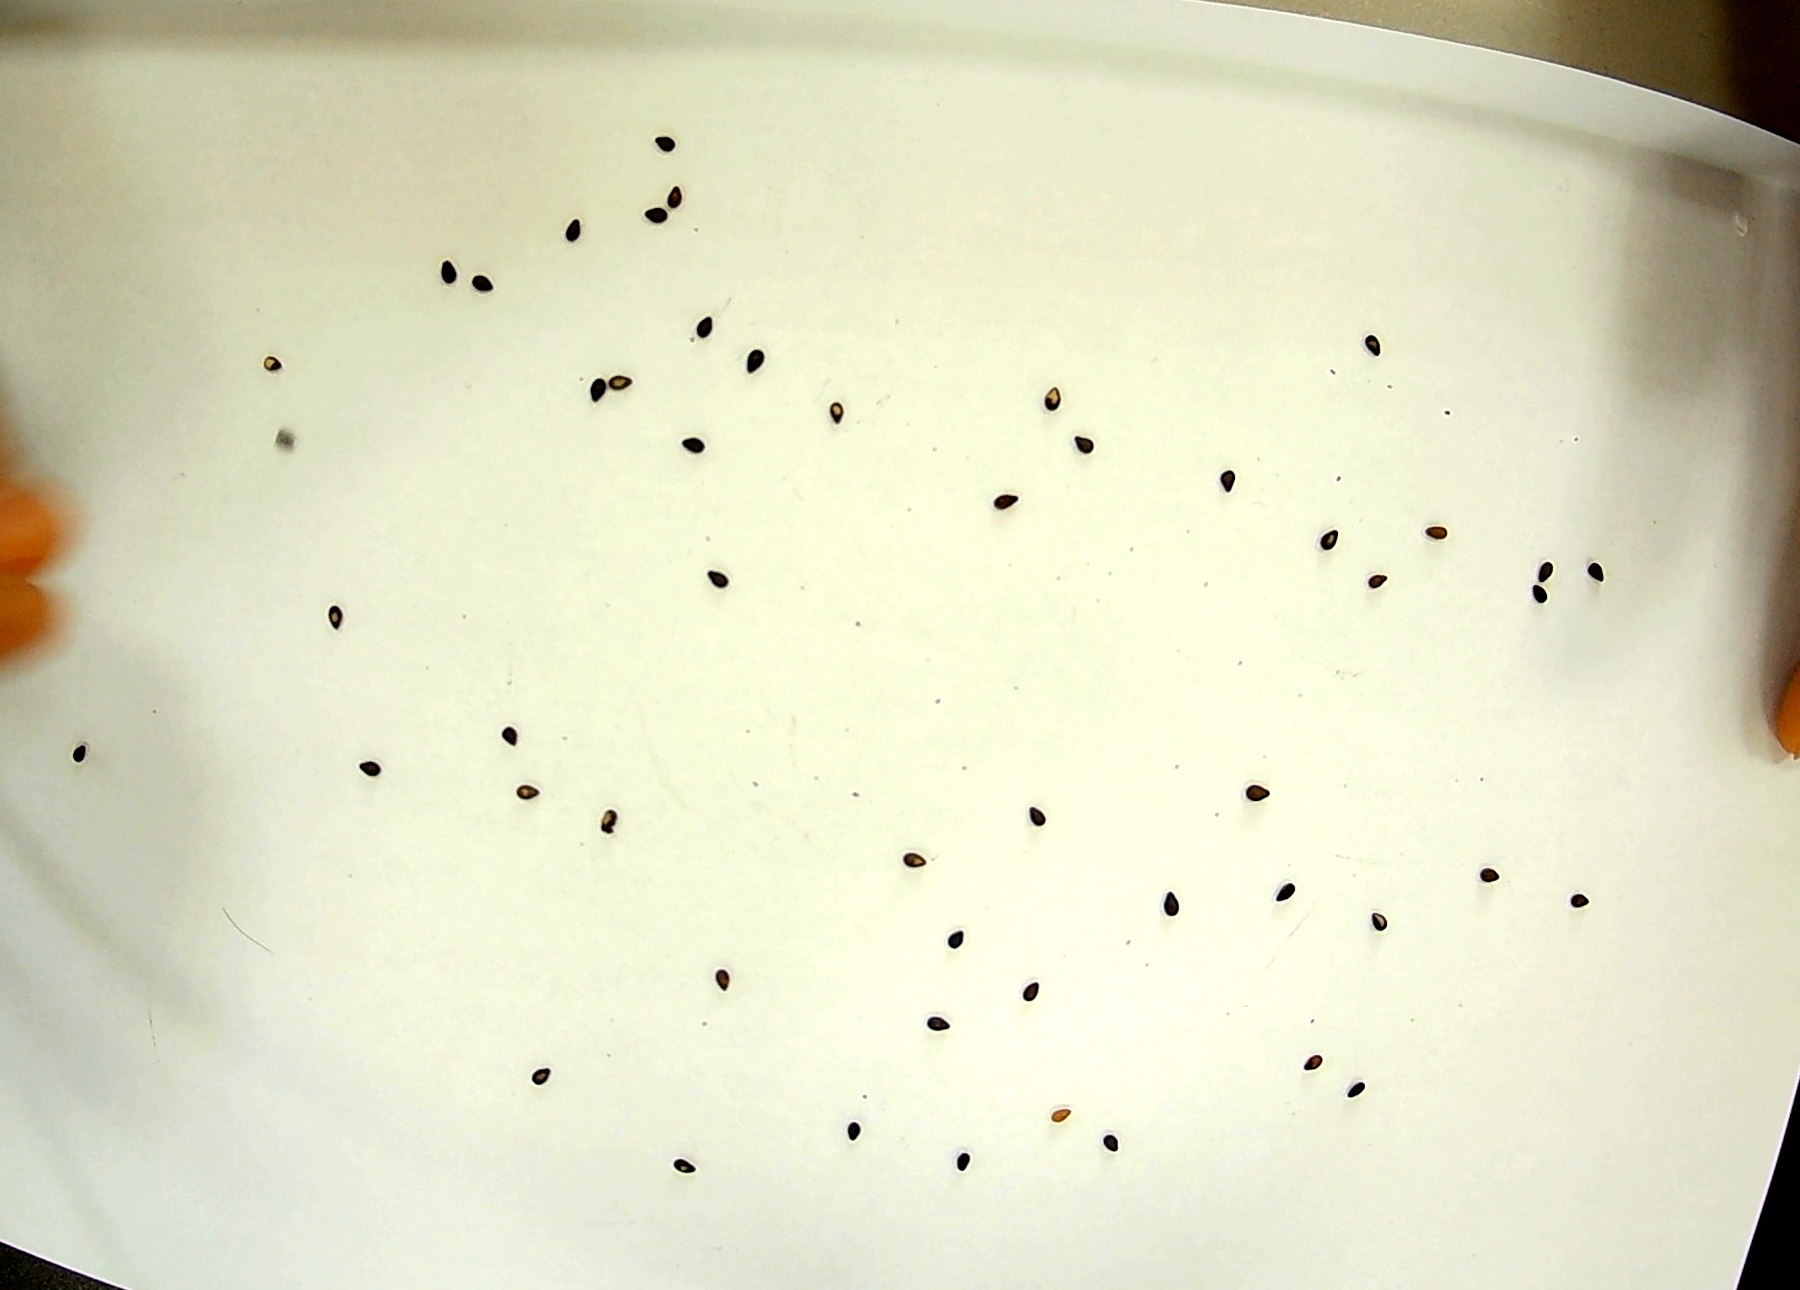sesami: (661, 1145, 703, 1182), (1033, 1099, 1074, 1136), (949, 1143, 991, 1181), (1266, 874, 1307, 912), (1561, 888, 1603, 926), (675, 310, 717, 348), (1069, 419, 1111, 457), (1203, 465, 1245, 503), (1358, 556, 1400, 593), (1520, 546, 1561, 584), (1575, 542, 1617, 579), (833, 1115, 873, 1153), (927, 1007, 967, 1044), (939, 928, 980, 966), (607, 364, 647, 402), (1035, 384, 1076, 422), (1319, 524, 1359, 561), (1419, 511, 1460, 549), (1527, 588, 1567, 625), (1365, 331, 1405, 369), (1016, 799, 1058, 835), (1143, 898, 1185, 934), (1467, 843, 1508, 880), (668, 436, 710, 472), (742, 339, 784, 376), (980, 476, 1021, 512), (463, 267, 507, 302), (1009, 974, 1049, 1011), (882, 839, 922, 875), (1362, 905, 1402, 941), (1295, 1046, 1335, 1082), (1334, 1074, 1374, 1110), (1239, 778, 1280, 814), (700, 564, 741, 600), (567, 374, 607, 410), (825, 396, 865, 433), (1362, 329, 1402, 366), (666, 177, 707, 212), (636, 207, 678, 242), (550, 216, 592, 251), (643, 126, 685, 159), (490, 720, 525, 752), (594, 801, 629, 833), (437, 253, 472, 283), (253, 353, 287, 384), (320, 603, 354, 634), (59, 739, 93, 769), (350, 761, 385, 792), (512, 775, 547, 806), (705, 961, 740, 991), (523, 1057, 558, 1088)
